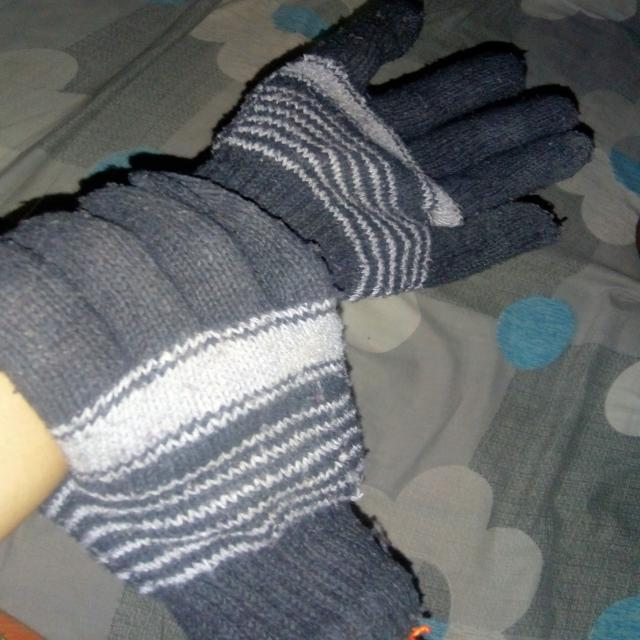gloved_hand: (3, 167, 428, 636), (80, 0, 616, 301)
